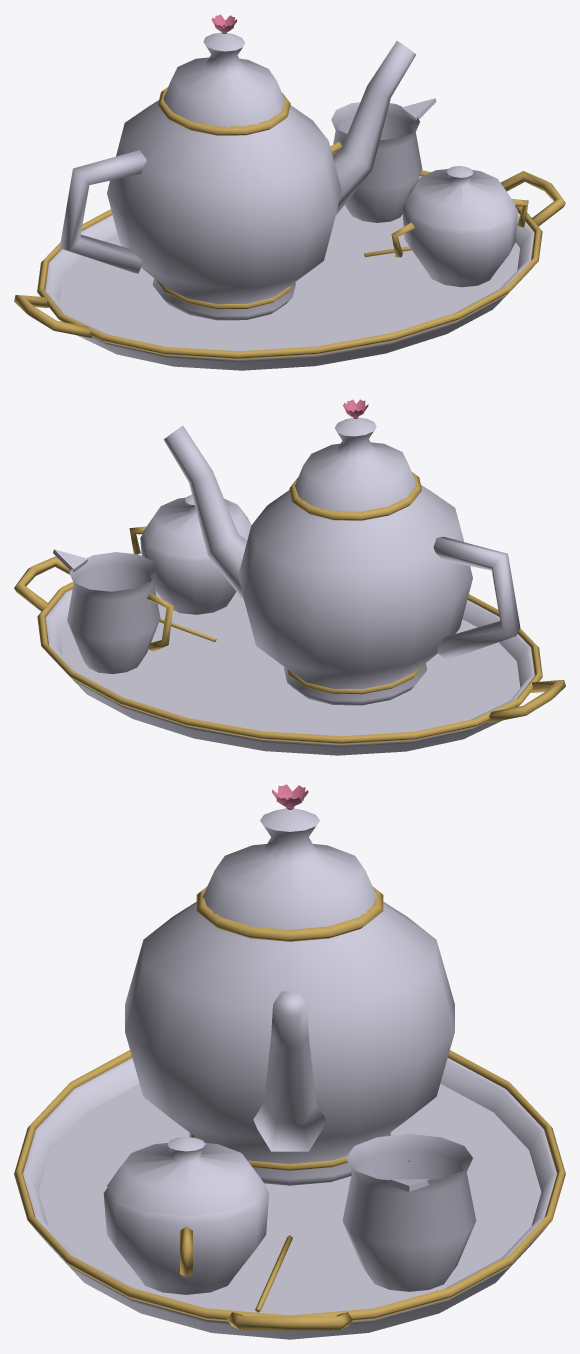
File: tea_service_silver.glb
The picture shows the model from 3 angles, top to bottom: view 1: azimuth 30°, elevation 25°; view 2: azimuth 150°, elevation 25°; view 3: azimuth 270°, elevation 25°; orthographic projection. The views are drawn at different scales.
Visible parts, largest first — view 1: tea_service_silver; view 2: tea_service_silver; view 3: tea_service_silver.
Part boxes in pixels (x1,y1,x2,y2): tea_service_silver: (14, 14, 565, 370); tea_service_silver: (14, 399, 565, 755); tea_service_silver: (14, 784, 565, 1339).
Size of what is drawn, in the model's own units: 0.55 by 0.28 by 0.38.
